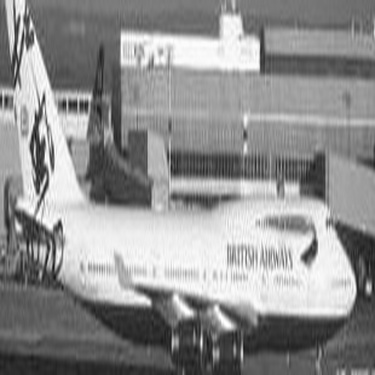airplane: (3, 6, 370, 370), (74, 40, 319, 212)
